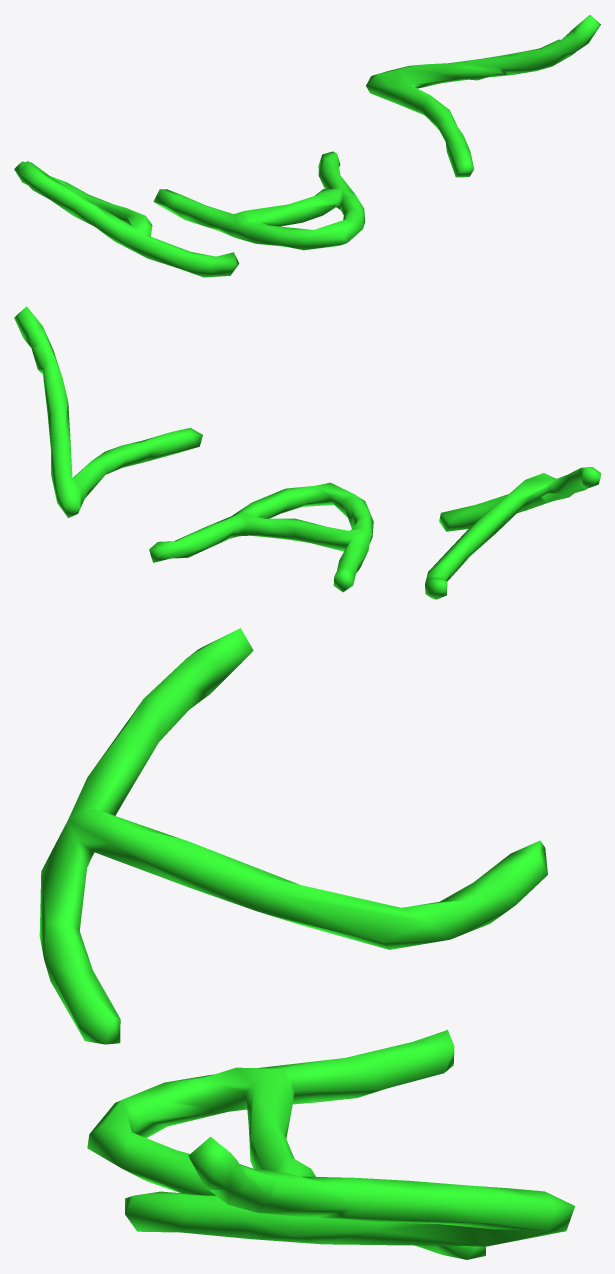
Rendered from Tav.obj.
3 renders of one model, top to bottom at view 1: azimuth 30°, elevation 25°; view 2: azimuth 150°, elevation 25°; view 3: azimuth 270°, elevation 25°, orthographic. The views are drawn at different scales.
Parts seen in each view (by area): view 1: Tav; view 2: Tav; view 3: Tav.
Part boxes in pixels (bbox=[...]): Tav: bbox=[14, 15, 600, 277]; Tav: bbox=[14, 306, 600, 599]; Tav: bbox=[39, 628, 574, 1259].
Size of the model in its own units: 1 by 0.2578 by 0.4012.
